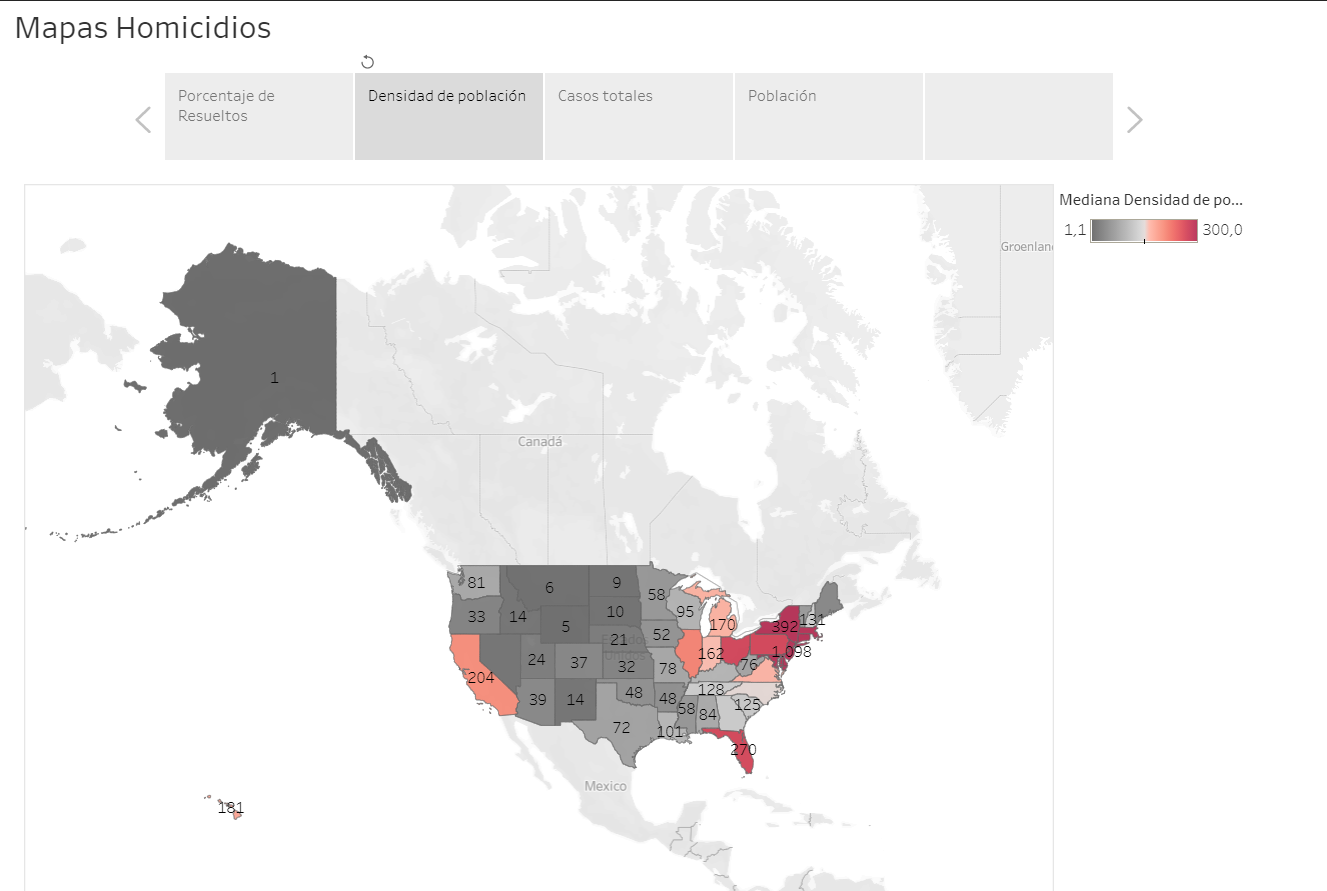

What the dashboard file says about the page in this screenshot:
{"tool":"powerbi","page":{"name":"Página 5","canvas":[1280,720],"ordinal":5},"visuals":[{"type":"map","fields":{"Category":["countries-of-the-world.Country"],"Size":["Sum(countries-of-the-world.Pop. Density (per sq. mi.))"]},"box":[9.6,0,1270.4,719.7],"z":0}]}

Visuals, with their boxes on the page's 1280x720 design canvas (x1, y1, x2, y2). These are canvas units, not pixel positions in the 1327x891 screenshot, which may show the page scaled, cropped or inside an application window:
map - countries-of-the-world.Country x Sum(countries-of-the-world.Pop. Density (per sq. mi.)): (x1=10, y1=0, x2=1280, y2=720)
